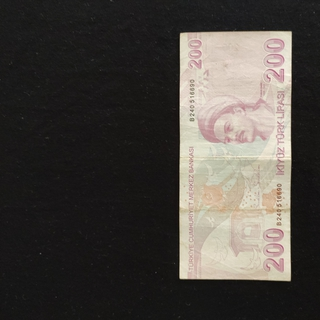200TLBack: (179, 30, 292, 282)
